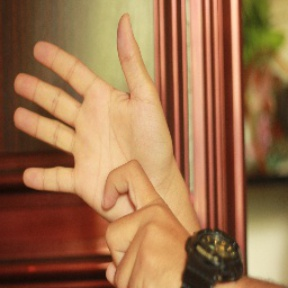R: (10, 11, 185, 288)
